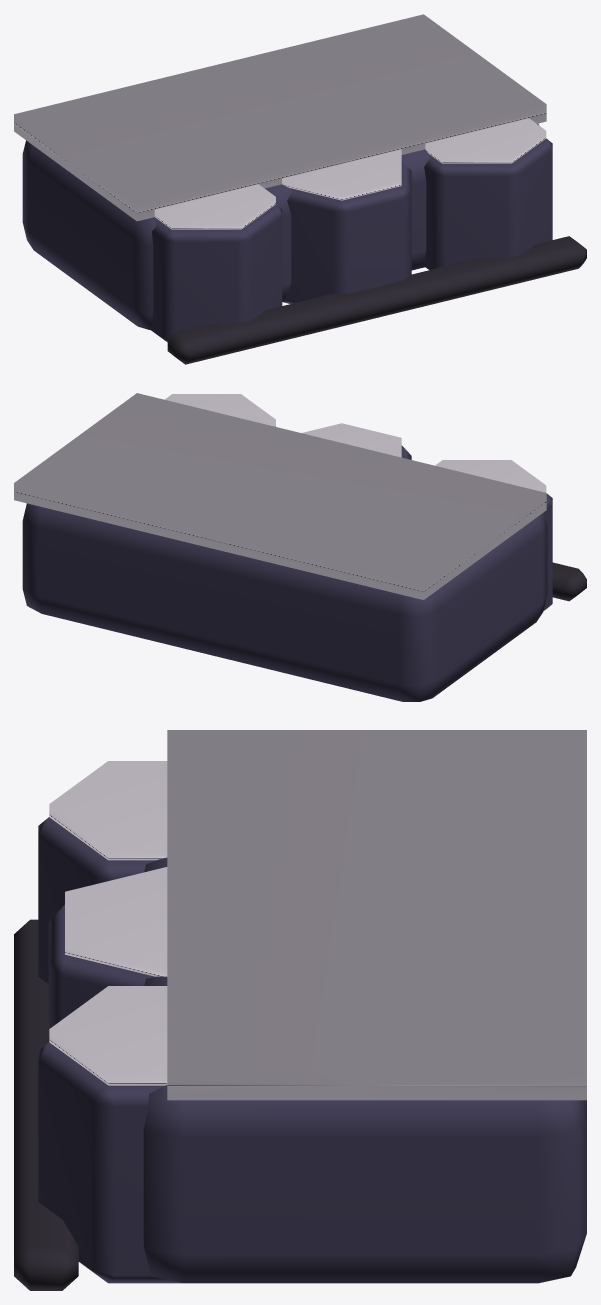
Rendered from ledge_ash.glb.
3 views of the same model, one above another, from view 1: azimuth 30°, elevation 25°; view 2: azimuth 150°, elevation 25°; view 3: azimuth 270°, elevation 25° (orthographic). The views are drawn at different scales.
Parts seen in each view (by area): view 1: Ledge; view 2: Ledge; view 3: Ledge.
Boxes of the visible parts, bbox=[...] form: Ledge: bbox=[14, 14, 586, 364]; Ledge: bbox=[14, 393, 586, 701]; Ledge: bbox=[14, 730, 586, 1290].
Size of the model in its own units: 1 by 0.31 by 0.71.
